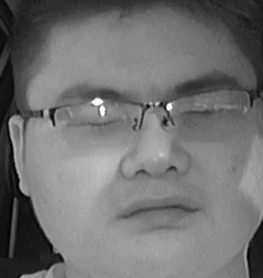blink: (77, 116, 119, 129), (180, 105, 214, 120)
glass: (163, 88, 252, 140), (50, 98, 142, 146)
mouth: (120, 195, 197, 232)
